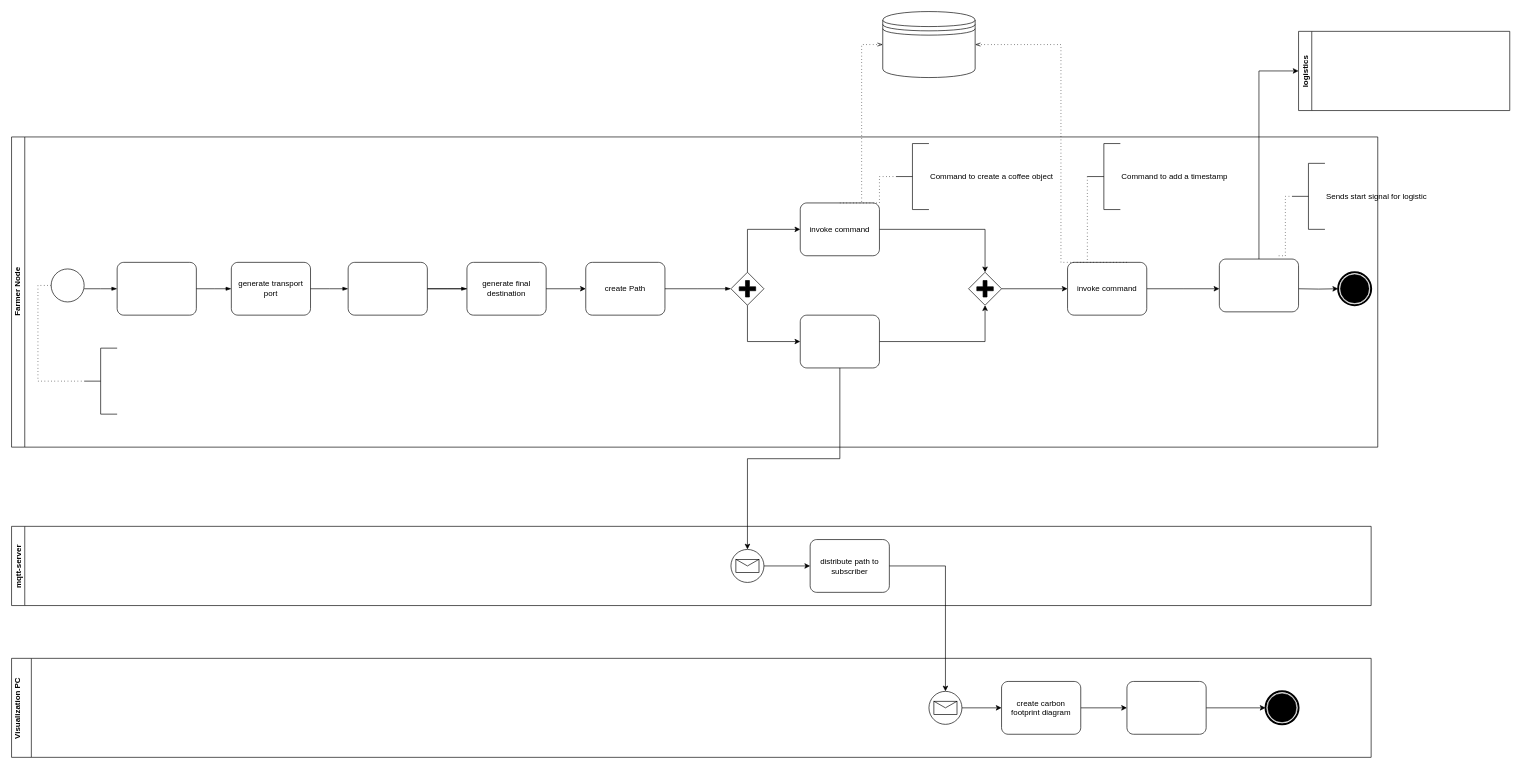
This 1521x769 diagram has some shape labels left out. The centre of each missing label's shape, as x and y in pixels:
generate country of origin: [156,288]
generate destination port: [387,288]
Hyperledger minifabric blockchain: [928,44]
publish Path: [839,341]
show diagram: [1166,707]
start logistic: [1259,285]
User presses button: [100,380]
